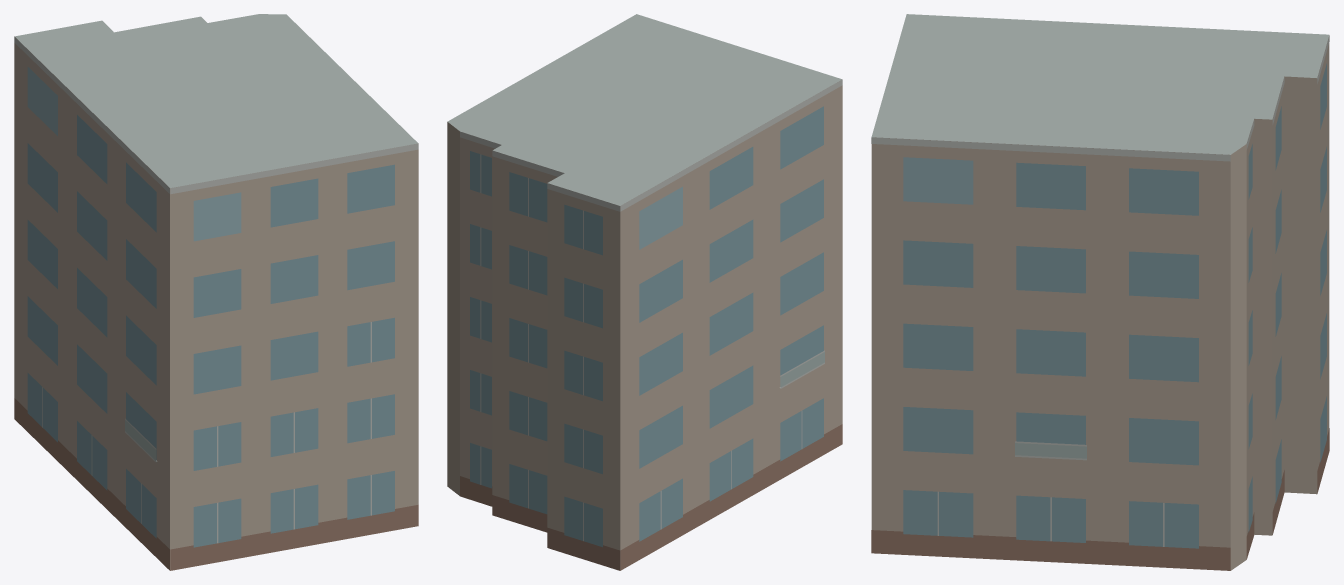
Rendered from survey-upis-32981251.glb.
The picture shows the model from 3 angles, left to right: view 1: azimuth 30°, elevation 25°; view 2: azimuth 150°, elevation 25°; view 3: azimuth 270°, elevation 25°; orthographic projection. The views are drawn at different scales.
Parts seen in each view (by area): view 1: survey-upis-32981251.tmp; view 2: survey-upis-32981251.tmp; view 3: survey-upis-32981251.tmp.
Boxes of the visible parts, <box> form: survey-upis-32981251.tmp: <box>14,14,418,570</box>; survey-upis-32981251.tmp: <box>447,14,842,570</box>; survey-upis-32981251.tmp: <box>871,14,1329,570</box>.
Size of the model in its own units: 11.04 by 15.2 by 15.18.
